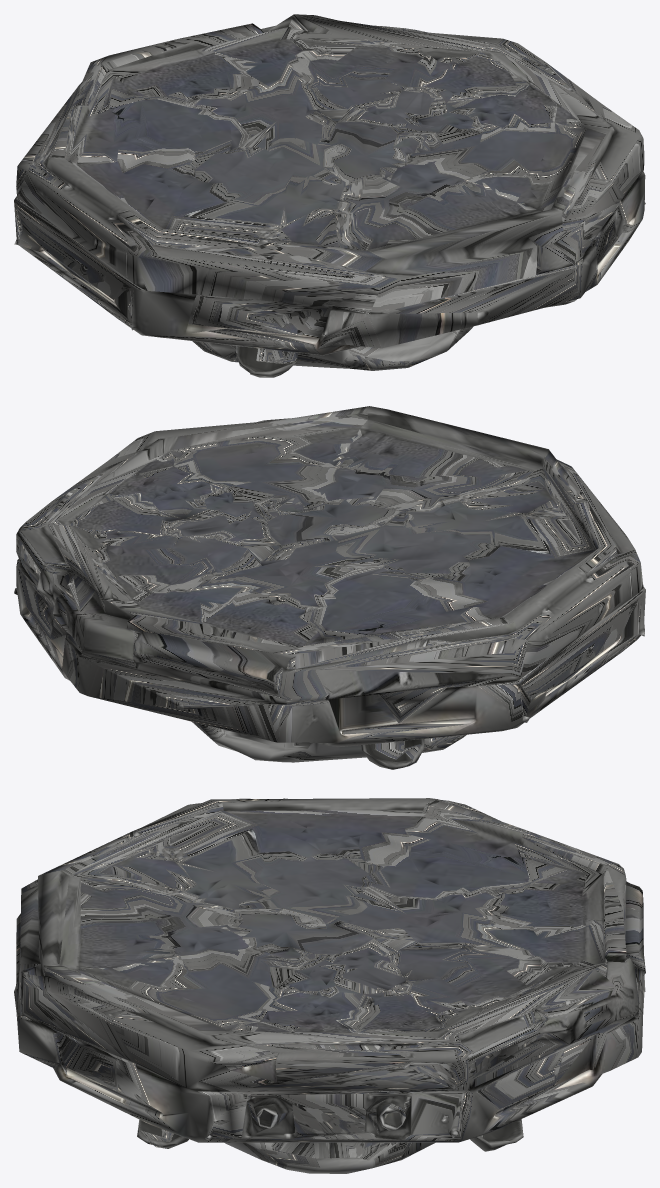
The model's file is hover_pad.glb.
3 renders of one model, top to bottom at view 1: azimuth 30°, elevation 25°; view 2: azimuth 150°, elevation 25°; view 3: azimuth 270°, elevation 25°, orthographic. The views are drawn at different scales.
Visible parts, largest first — view 1: tripo_node_112049f3-b431-4544-9168-b9ebab81326f; view 2: tripo_node_112049f3-b431-4544-9168-b9ebab81326f; view 3: tripo_node_112049f3-b431-4544-9168-b9ebab81326f.
Part boxes in pixels (box(x1,y1,x2,y2)): tripo_node_112049f3-b431-4544-9168-b9ebab81326f: box(14, 14, 645, 377); tripo_node_112049f3-b431-4544-9168-b9ebab81326f: box(14, 406, 645, 769); tripo_node_112049f3-b431-4544-9168-b9ebab81326f: box(14, 798, 645, 1173).
Size of the model in its own units: 0.9913 by 0.3452 by 0.9978.
Materials: 1 (1 with a texture image).
